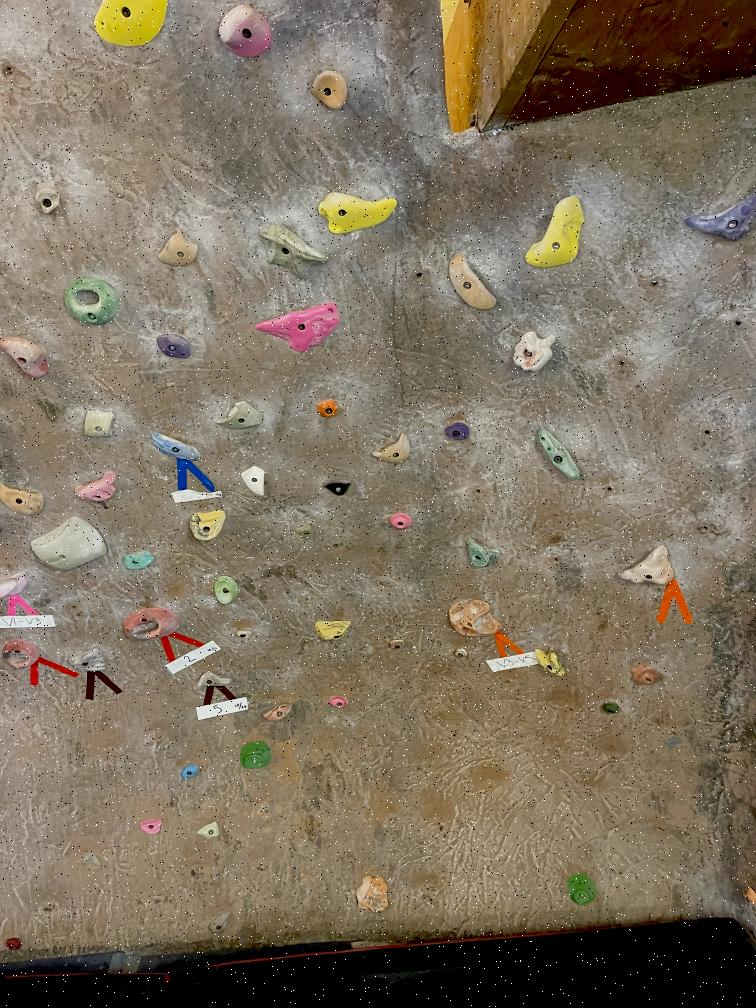Crimp: (679, 183, 756, 265), (29, 515, 115, 577), (445, 248, 498, 321), (150, 226, 201, 273), (213, 392, 265, 437), (370, 428, 416, 476), (149, 430, 202, 465), (314, 474, 360, 503), (65, 648, 110, 676), (192, 668, 237, 695), (237, 465, 270, 498), (121, 549, 159, 571)
Edges: (258, 219, 330, 282)
Foothold: (308, 68, 351, 116), (354, 872, 394, 915), (564, 870, 601, 912), (524, 645, 568, 678), (154, 330, 196, 362), (237, 741, 277, 774), (310, 616, 355, 645), (379, 507, 419, 535), (29, 185, 65, 216), (626, 659, 664, 685), (258, 700, 300, 723), (439, 419, 472, 446), (312, 396, 343, 422), (323, 692, 353, 713), (206, 909, 231, 933), (138, 817, 165, 838), (599, 697, 620, 724), (197, 819, 222, 840), (297, 520, 322, 540), (178, 763, 200, 783), (3, 936, 26, 954), (452, 644, 470, 662), (388, 636, 408, 651), (234, 626, 253, 640)
Jug: (520, 192, 589, 268), (252, 302, 343, 354), (317, 187, 401, 239), (614, 541, 684, 594), (216, 3, 280, 60), (0, 333, 56, 387), (62, 463, 121, 506), (0, 480, 45, 517), (186, 508, 232, 543)
Pinch: (502, 324, 575, 387), (536, 421, 583, 487), (446, 598, 506, 641), (77, 404, 118, 445), (464, 533, 502, 568), (208, 573, 242, 609)
Pocket: (60, 274, 123, 328), (119, 606, 183, 644), (1, 635, 46, 673)
